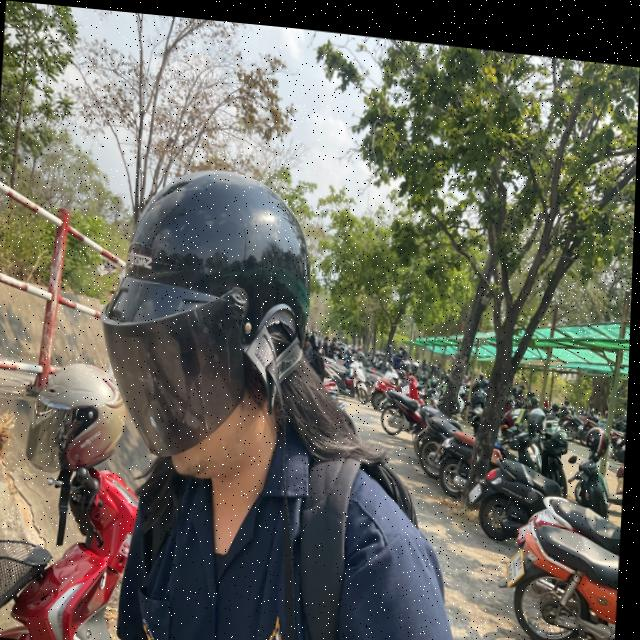illegal_helmet: (82, 150, 322, 611)
